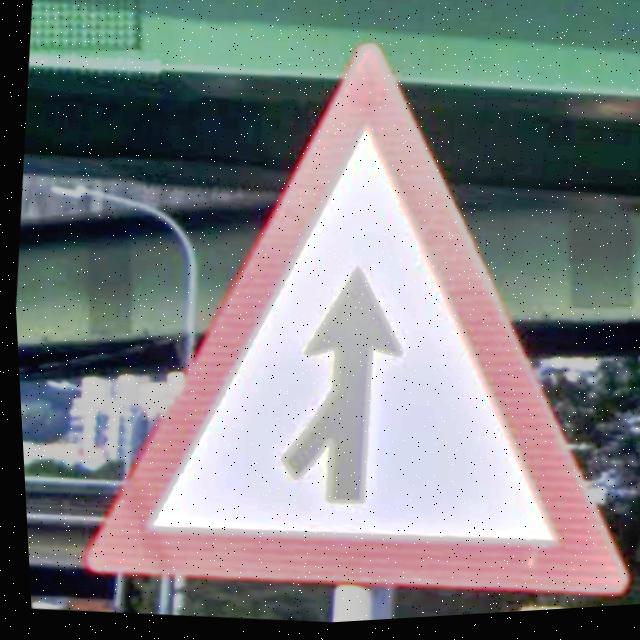leftmerge: (78, 49, 622, 606)
